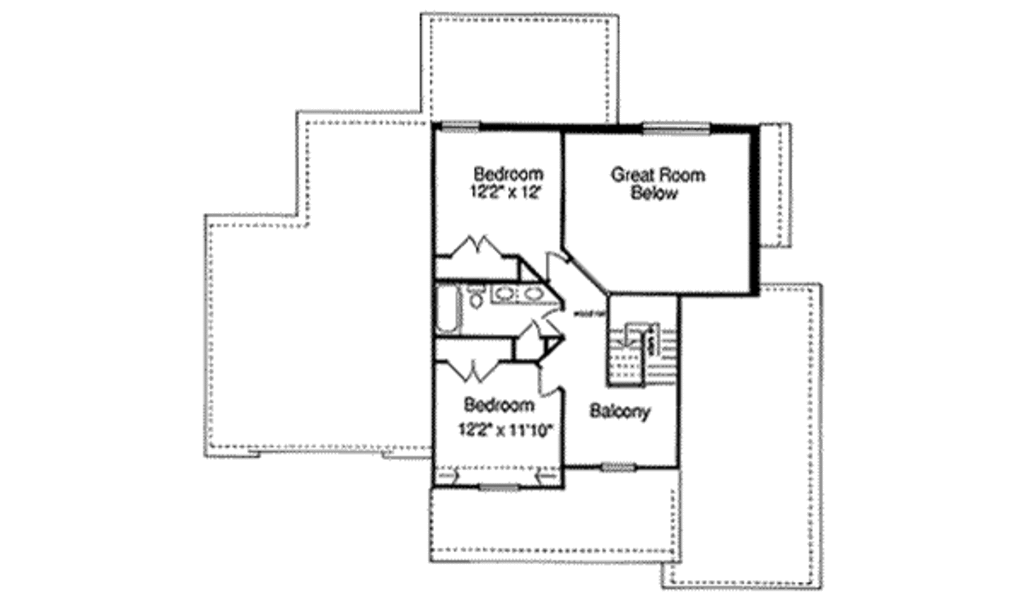door: (444, 229, 508, 259), (440, 357, 499, 384), (530, 360, 565, 405), (546, 239, 573, 280), (514, 316, 547, 342)
large_sink: (465, 277, 488, 313)
small_sink: (491, 284, 561, 304)
stairs: (608, 313, 683, 392)
tub: (437, 284, 465, 334)
window: (637, 116, 710, 138), (596, 452, 638, 475), (473, 480, 523, 491), (445, 116, 476, 132)
